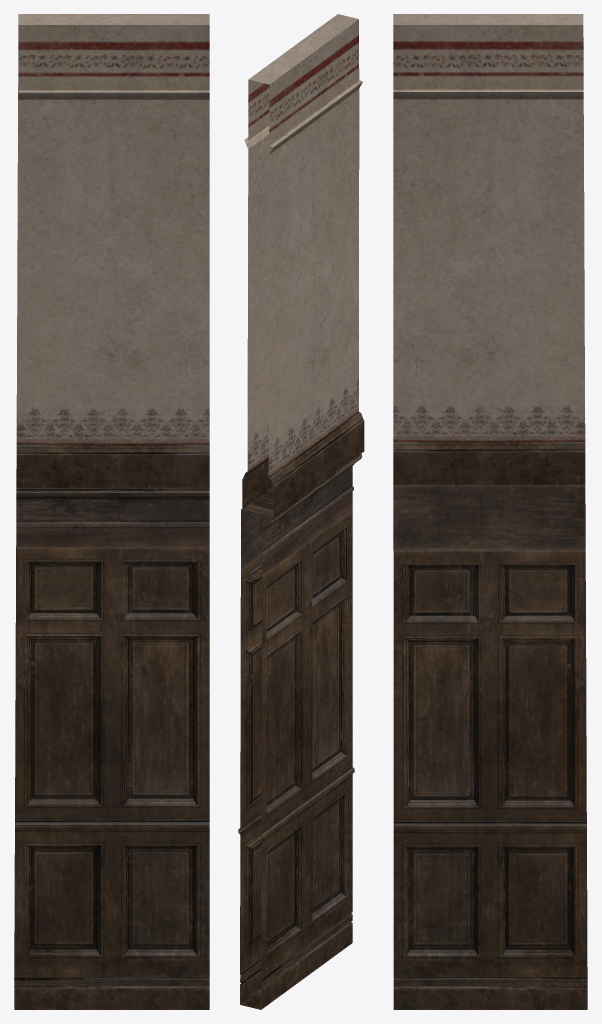
Rendered from Wall2Cut.fbx.
3 renders of one model, left to right at view 1: azimuth 90°, elevation 25°; view 2: azimuth 150°, elevation 25°; view 3: azimuth 270°, elevation 25°, orthographic. The views are drawn at different scales.
Visible parts, largest first — view 1: 4kWallCut1_LOD0; view 2: 4kWallCut1_LOD0; view 3: 4kWallCut1_LOD0.
Boxes of the visible parts, bbox=[...] form: 4kWallCut1_LOD0: bbox=[14, 14, 209, 1009]; 4kWallCut1_LOD0: bbox=[238, 14, 364, 1009]; 4kWallCut1_LOD0: bbox=[393, 14, 587, 1009].
Size of the model in its own units: 23.82 by 599 by 107.
